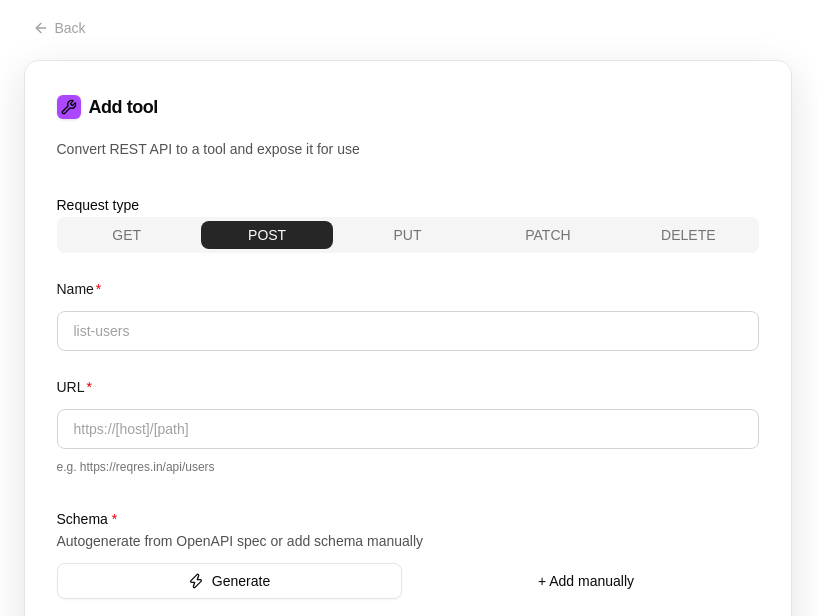
Test: ToolForm › Edit mode (tool prop provided) › displays Regenerate schema when schemaMode is generated
Type "https://api.example.com" into the field labelled "URL *" at (408, 429), box [56,409,758,449]
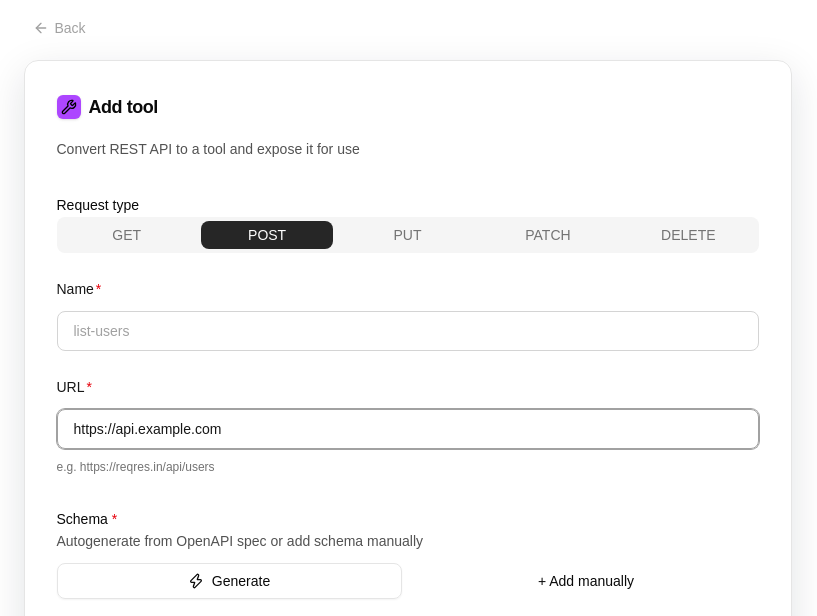
Click the button "Generate" at (229, 581), box [56,563,402,599]
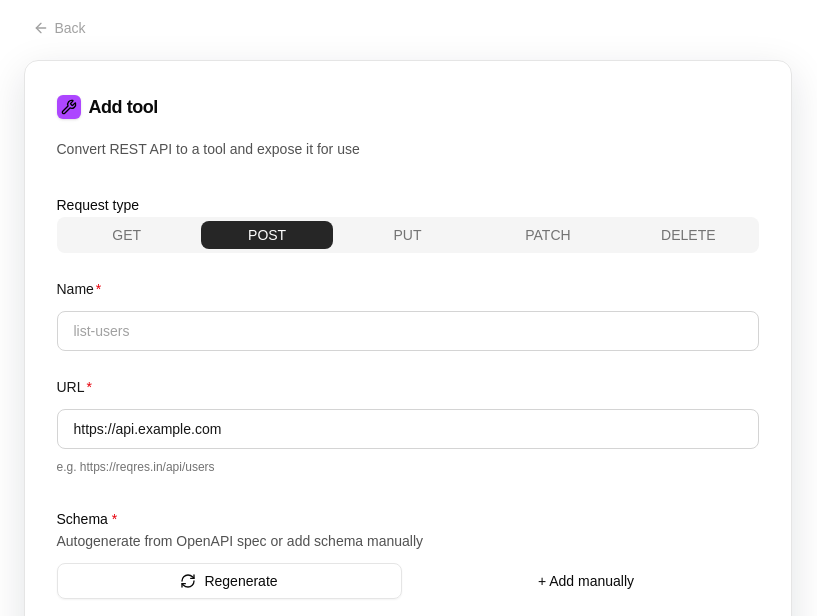
Expected: the button "Regenerate" is shown, [56,563,402,599]
